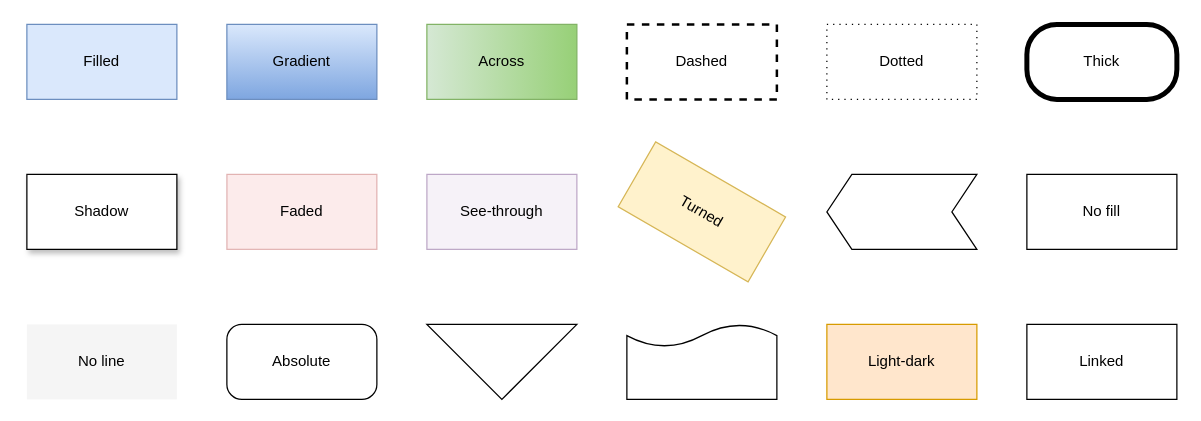
This 1201x421 diagram has some shape labels left out. The centre of each missing label's shape, as x and y in pixels:
"Flipped" goes at pixel 901 211.
"South" goes at pixel 501 361.
"West" goes at pixel 701 361.
